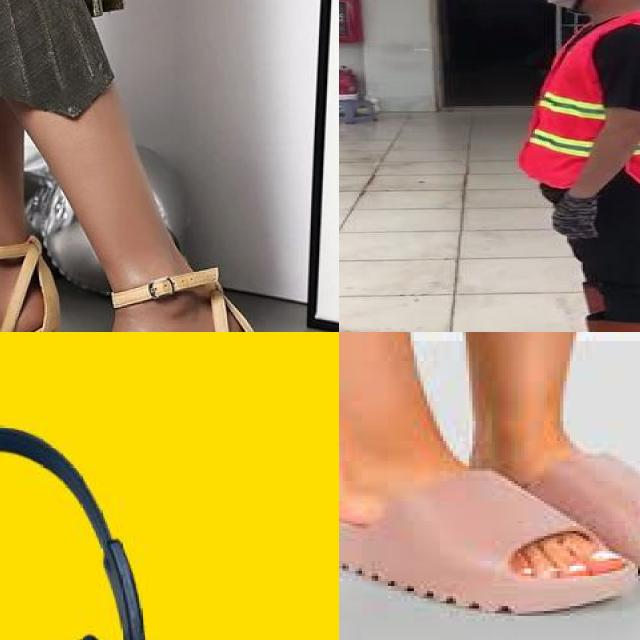Ear-protection: (0, 443, 156, 640)
Sandals: (339, 438, 638, 616), (0, 263, 278, 332)
face_mask: (534, 0, 612, 10)
hand_glove: (545, 192, 605, 239)
person: (499, 0, 640, 332)
vest: (522, 13, 640, 189)
